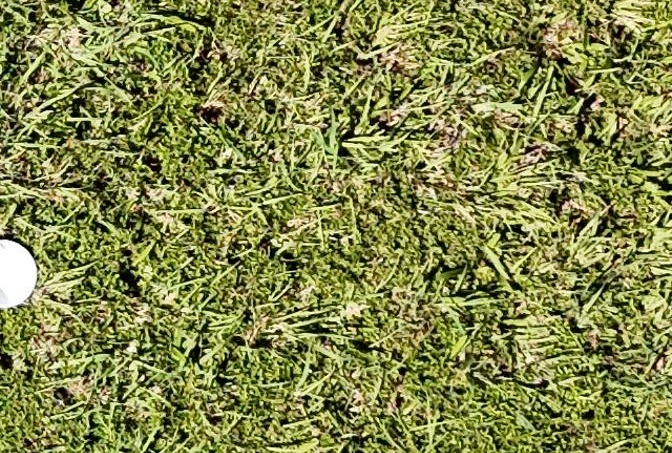bowl: (0, 240, 38, 309)
